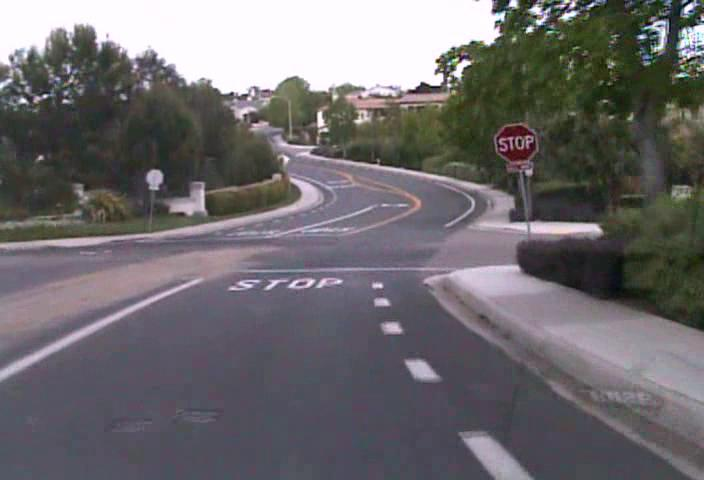stop: (494, 122, 539, 164)
